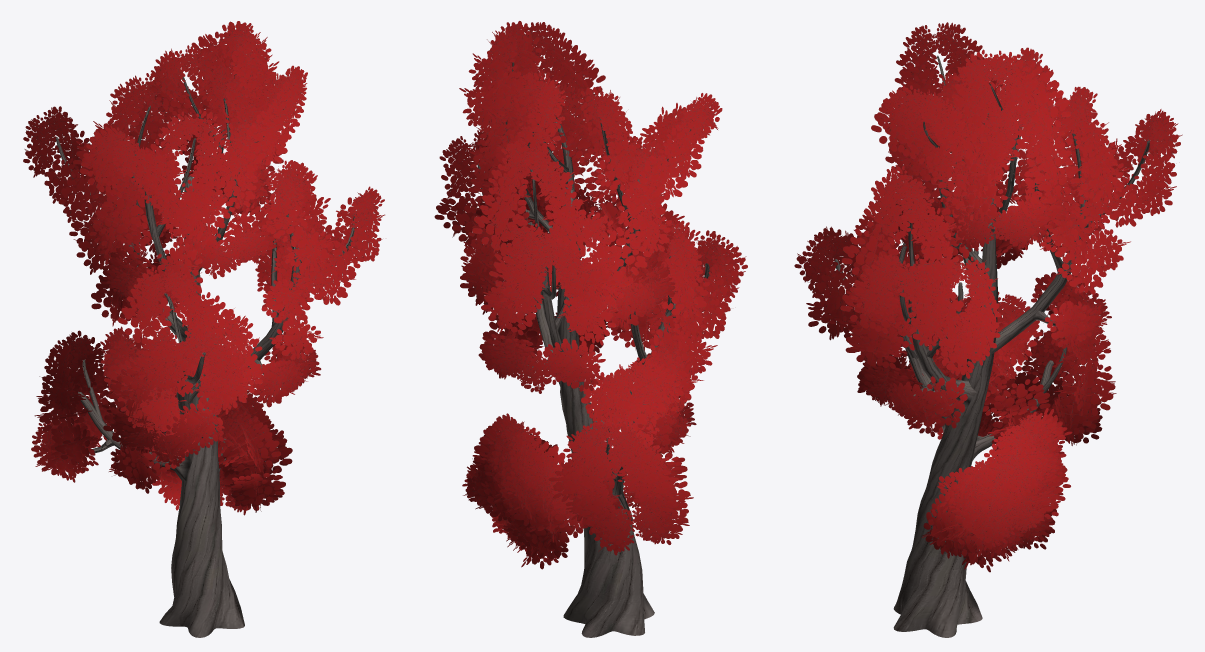
File: twistedtree-4.glb
3 renders of one model, left to right at view 1: azimuth 30°, elevation 25°; view 2: azimuth 150°, elevation 25°; view 3: azimuth 270°, elevation 25°, orthographic. The views are drawn at different scales.
Visible parts, largest first — view 1: TwistedTree_4; view 2: TwistedTree_4; view 3: TwistedTree_4.
Boxes of the visible parts, x1,y1,x2,y2 form: TwistedTree_4: (23, 21, 384, 637); TwistedTree_4: (434, 21, 747, 637); TwistedTree_4: (794, 22, 1182, 637).
Bounding box in the file's own units: 10.38 × 18.74 × 11.29.
Materials: 2 (2 with a texture image).
